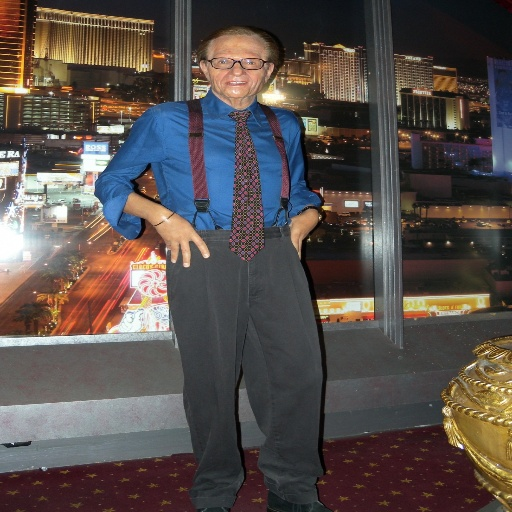hand: (151, 211, 204, 256), (285, 214, 321, 261)
